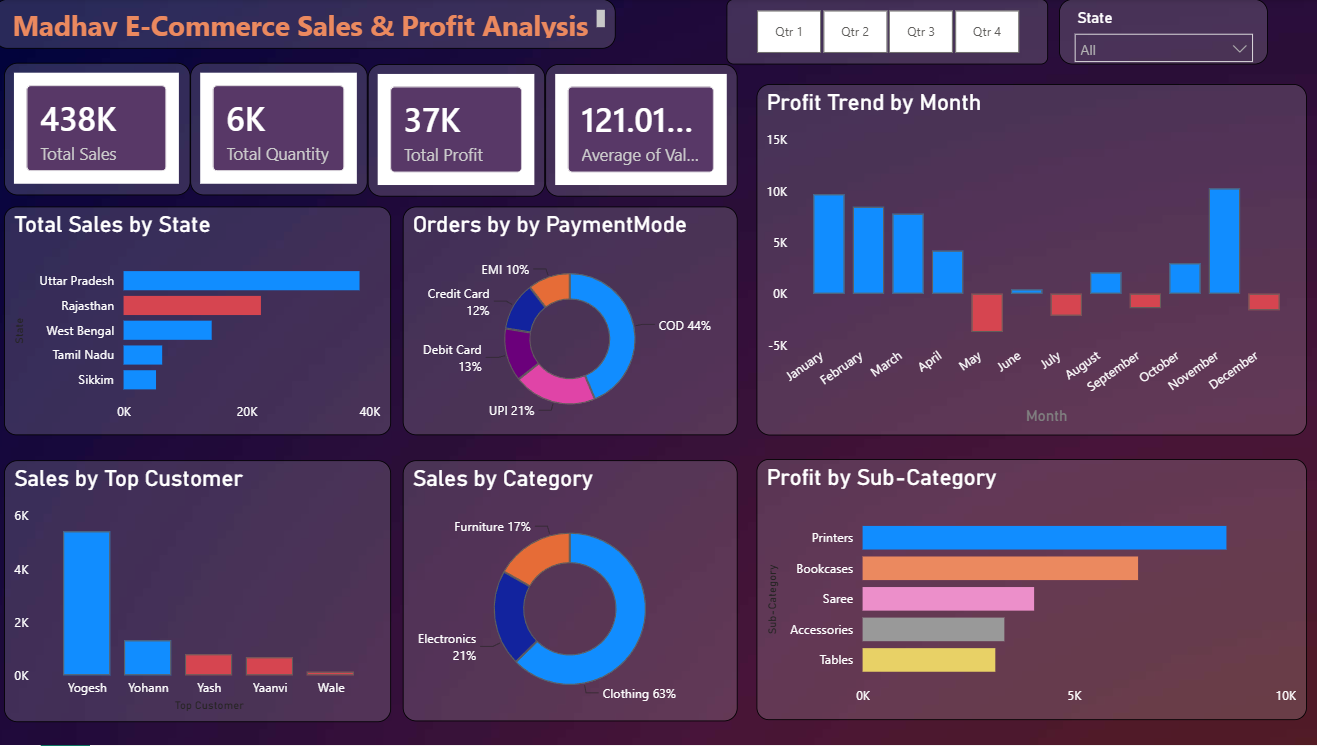

The page's visual inventory and layout, read from the dashboard file:
{"tool":"powerbi","page":{"name":"Page 1","canvas":[1280,720],"ordinal":0},"visuals":[{"type":"textbox","box":[0,0,599.7,48],"z":0},{"type":"columnChart","fields":{"Category":["Orders.Order Date.Variation.Date Hierarchy.Month"],"Y":["Sum(Details.Profit)"]},"box":[735.5,82.3,531,338.9],"z":1000},{"type":"barChart","fields":{"Category":["Details.Sub-Category"],"Y":["Sum(Details.Profit)"]},"box":[735.9,444,530.8,252.1],"z":2000},{"type":"donutChart","fields":{"Category":["Details.Category"],"Y":["Sum(Details.Quantity)"]},"box":[394.5,445.2,323.3,252.1],"z":3000},{"type":"donutChart","fields":{"Y":["Sum(Details.Quantity)"],"Category":["Details.PaymentMode"]},"box":[394.5,200.3,323.3,220.8],"z":4000},{"type":"cardVisual","fields":{"Data":["Sum(Details.Amount)"]},"box":[9.6,61.7,179.8,127.6],"z":5000},{"type":"cardVisual","fields":{"Data":["Sum(Details.Quantity)"]},"box":[189.4,61.7,171.5,127.6],"z":6000},{"type":"cardVisual","fields":{"Data":["Sum(Details.Profit)"]},"box":[360.9,63.1,171.5,127.6],"z":7000},{"type":"cardVisual","fields":{"Data":["Sum(Details.AOV)"]},"box":[532.4,63.1,185.2,127.6],"z":8000},{"type":"barChart","fields":{"Category":["Orders.State"],"Y":["Sum(Details.Amount)"]},"box":[9.6,200.3,373.2,220.9],"z":9000},{"type":"columnChart","fields":{"Category":["Orders.CustomerName"],"Y":["Sum(Details.Amount)"]},"box":[9.6,444.6,373.2,252.5],"z":10000},{"type":"slicer","fields":{"Values":["Orders.Order Date.Variation.Date Hierarchy.Quarter"]},"box":[706.7,0,310.1,63.1],"z":11000},{"type":"slicer","fields":{"Values":["Orders.State"]},"box":[1027.8,0,201.7,63.1],"z":12000}]}

Visuals, with their boxes in screenshot pixels (x1, y1, x2, y2), scaled from the page's 1280x720 canvas onto the 1317x746 screenshot:
textbox: bbox(0, 0, 617, 50)
columnChart - Orders.Order Date.Variation.Date Hierarchy.Month x Sum(Details.Profit): bbox(757, 85, 1303, 436)
barChart - Details.Sub-Category x Sum(Details.Profit): bbox(757, 460, 1303, 721)
donutChart - Details.Category x Sum(Details.Quantity): bbox(406, 461, 739, 722)
donutChart - Sum(Details.Quantity) x Details.PaymentMode: bbox(406, 208, 739, 436)
cardVisual - Sum(Details.Amount): bbox(10, 64, 195, 196)
cardVisual - Sum(Details.Quantity): bbox(195, 64, 371, 196)
cardVisual - Sum(Details.Profit): bbox(371, 65, 548, 198)
cardVisual - Sum(Details.AOV): bbox(548, 65, 738, 198)
barChart - Orders.State x Sum(Details.Amount): bbox(10, 208, 394, 436)
columnChart - Orders.CustomerName x Sum(Details.Amount): bbox(10, 461, 394, 722)
slicer - Orders.Order Date.Variation.Date Hierarchy.Quarter: bbox(727, 0, 1046, 65)
slicer - Orders.State: bbox(1058, 0, 1265, 65)
